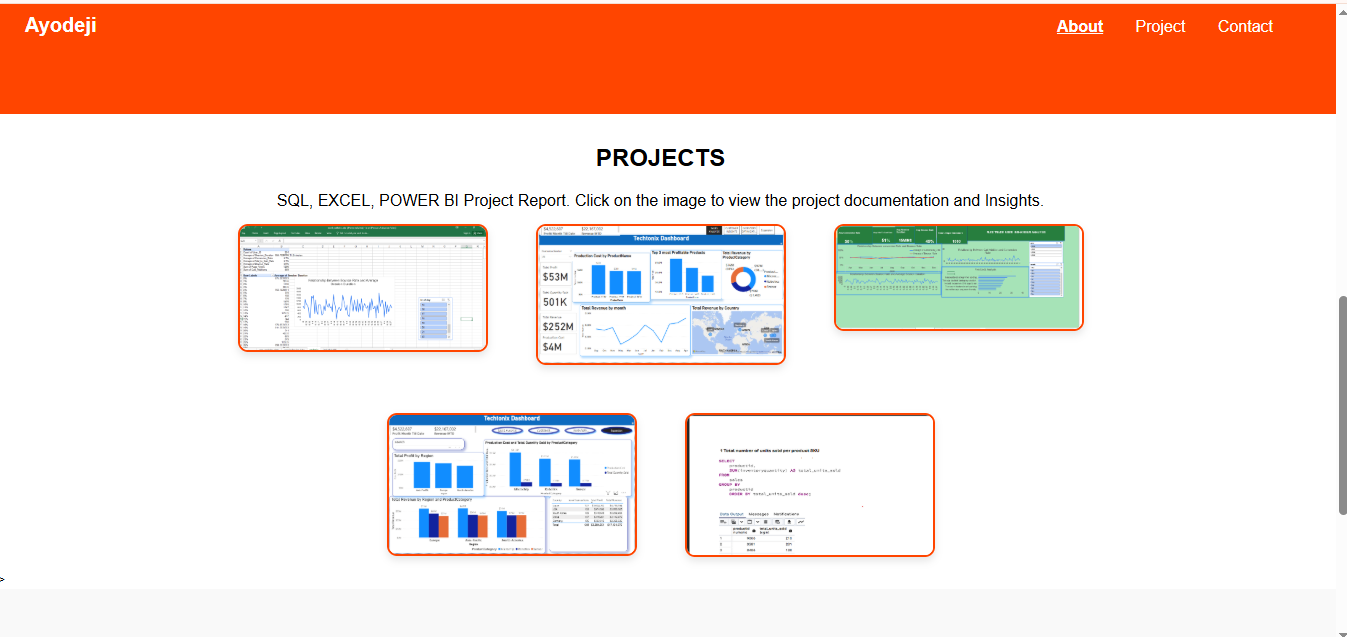

The page's visual inventory and layout, read from the dashboard file:
{"tool":"powerbi","page":{"name":"Expansion","canvas":[1280,720],"ordinal":3},"visuals":[{"type":"multiRowCard","fields":{"Values":["Measures (2).Profit Month Till Date","Measures (2).Revenue MTD"]},"box":[0,55.2,458.6,55.2],"z":0},{"type":"pageNavigator","box":[525.9,55.2,753.4,55.2],"z":1000},{"type":"textSearchSlicerF85E2E78BE4A4D7D9F99ED75B5D71C85","title":"search","fields":{"fields":["product dim.ProductName"]},"box":[15.5,122.4,375.9,60.3],"z":2000},{"type":"clusteredColumnChart","fields":{"Y":["Measures (2).Production Cost","Measures (2).Total Quantity Sold"],"Category":["product dim.ProductCategory"]},"box":[493.1,129.3,772.4,293.1],"z":3000},{"type":"clusteredColumnChart","fields":{"Y":["Measures (2).Total Revenue"],"Category":["location dim.Region"],"Series":["product dim.ProductCategory"]},"box":[1.7,422.4,812.1,298.3],"z":4000},{"type":"clusteredColumnChart","fields":{"Y":["Measures (2).Total Profit"],"Category":["location dim.Region"]},"box":[15.5,196.6,477.6,225.9],"z":5000},{"type":"tableEx","fields":{"Values":["location dim.Country","Measures (2).no of transactions","Measures (2).Total Profit","Measures (2).Total Revenue"]},"box":[834.5,422.4,406.9,287.9],"z":6000},{"type":"textbox","title":"Techtonix Dashboard","box":[0,0,1279.3,55.2],"z":7000}]}

Visuals, with their boxes on the page's 1280x720 design canvas (x1, y1, x2, y2). These are canvas units, not pixel positions in the 1347x637 screenshot, which may show the page scaled, cropped or inside an application window:
multiRowCard - Measures (2).Profit Month Till Date x Measures (2).Revenue MTD: [0, 55, 459, 110]
pageNavigator: [526, 55, 1279, 110]
"search" textSearchSlicerF85E2E78BE4A4D7D9F99ED75B5D71C85: [16, 122, 391, 183]
clusteredColumnChart - Measures (2).Production Cost x Measures (2).Total Quantity Sold: [493, 129, 1266, 422]
clusteredColumnChart - Measures (2).Total Revenue x location dim.Region: [2, 422, 814, 721]
clusteredColumnChart - Measures (2).Total Profit x location dim.Region: [16, 197, 493, 422]
tableEx - location dim.Country x Measures (2).no of transactions: [834, 422, 1241, 710]
"Techtonix Dashboard" textbox: [0, 0, 1279, 55]
